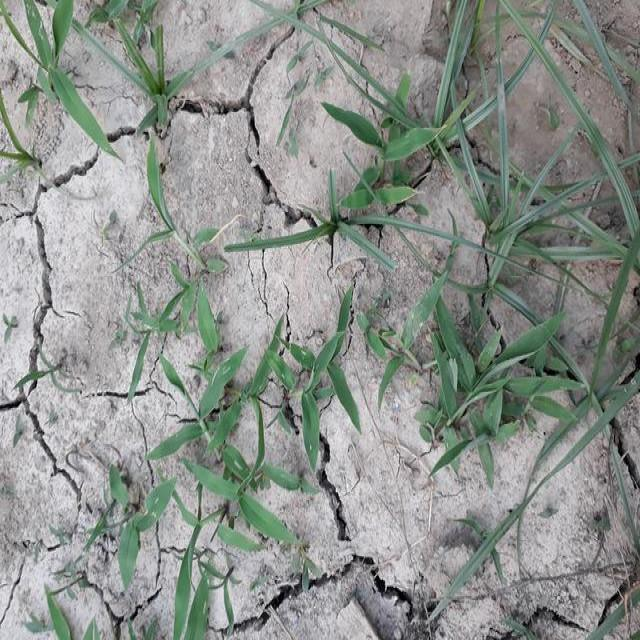weed: (435, 1, 640, 291), (230, 198, 640, 286), (156, 373, 290, 616), (366, 301, 576, 451), (142, 153, 222, 353), (18, 0, 114, 161), (291, 286, 363, 444), (125, 18, 212, 143), (110, 476, 172, 578)
